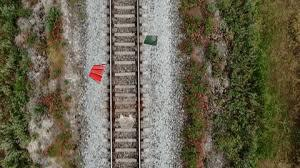Color_steel: (86, 64, 106, 84)
Dust_screen: (143, 33, 158, 48)
